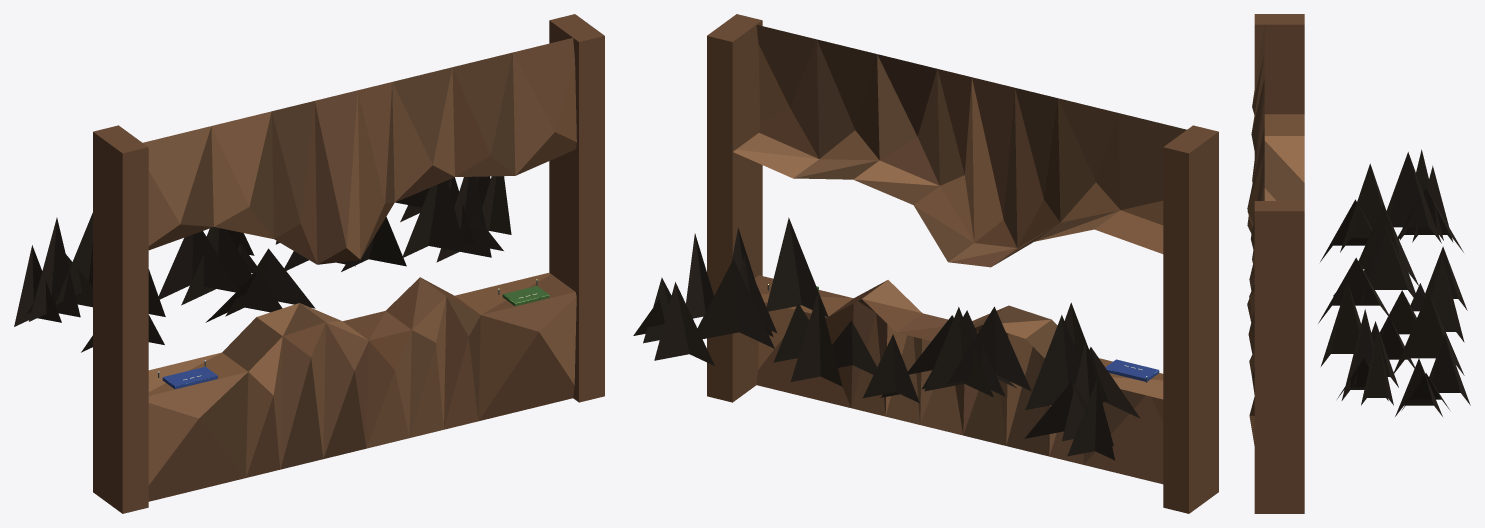
Rendered from 02-narrows.glb.
3 views of the same model, side by side, from view 1: azimuth 30°, elevation 25°; view 2: azimuth 150°, elevation 25°; view 3: azimuth 270°, elevation 25° (orthographic). The views are drawn at different scales.
Visible parts, largest first — view 1: terrain_floor, terrain_roof, terrain_wall_-1, terrain_wall_1, background_spire_02, background_spire_01, background_spire_09, background_spire_15, background_spire_23, background_spire_20, background_spire_03, background_spire_07 (+4 smaller); view 2: terrain_roof, terrain_floor, terrain_wall_-1, terrain_wall_1, background_spire_17, background_spire_02, background_spire_01, background_spire_16, background_spire_18, background_spire_13, background_spire_24, background_spire_03 (+12 smaller); view 3: terrain_wall_1, terrain_roof, terrain_wall_-1, background_spire_16, background_spire_17, background_spire_18, background_spire_12, background_spire_02, background_spire_23, background_spire_24, background_spire_13, background_spire_07 (+15 smaller).
Part boxes in pixels (x1,y1,x2,y2): terrain_floor: [148, 272, 576, 501]; terrain_roof: [143, 38, 576, 264]; terrain_wall_-1: [93, 125, 148, 513]; terrain_wall_1: [549, 14, 604, 402]; background_spire_02: [402, 180, 465, 258]; background_spire_01: [158, 231, 238, 299]; background_spire_09: [29, 217, 80, 321]; background_spire_15: [181, 227, 251, 305]; background_spire_23: [225, 248, 315, 316]; background_spire_20: [436, 176, 491, 262]; background_spire_03: [14, 245, 61, 326]; background_spire_07: [482, 176, 511, 234]; terrain_roof: [733, 25, 1186, 267]; terrain_floor: [754, 275, 1163, 484]; terrain_wall_-1: [1163, 125, 1218, 513]; terrain_wall_1: [707, 14, 762, 402]; background_spire_17: [691, 259, 774, 348]; background_spire_02: [766, 217, 828, 317]; background_spire_01: [947, 306, 1031, 391]; background_spire_16: [1025, 315, 1080, 410]; background_spire_18: [924, 307, 993, 397]; background_spire_13: [790, 291, 842, 386]; background_spire_24: [654, 282, 714, 365]; background_spire_03: [1067, 378, 1115, 460]; terrain_wall_1: [1254, 201, 1304, 513]; terrain_roof: [1247, 26, 1304, 269]; terrain_wall_-1: [1254, 14, 1304, 157]; background_spire_16: [1386, 152, 1441, 243]; background_spire_17: [1392, 291, 1464, 375]; background_spire_18: [1360, 222, 1415, 303]; background_spire_12: [1340, 163, 1386, 252]; background_spire_02: [1321, 282, 1360, 366]; background_spire_23: [1318, 257, 1388, 323]; background_spire_24: [1429, 335, 1470, 405]; background_spire_13: [1431, 257, 1464, 342]; background_spire_07: [1361, 331, 1393, 405].
Size of what is drawn, in the model's own units: 56.18 by 40 by 26.81.
